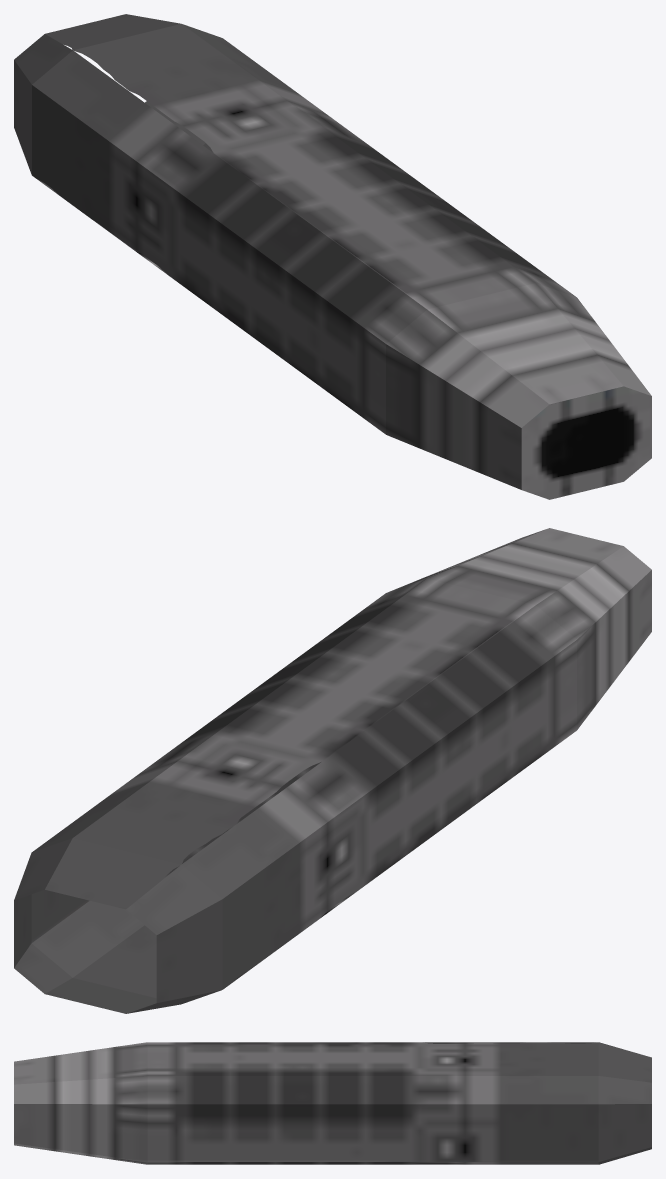
The model's file is Barrel.obj.
3 views of the same model, one above another, from view 1: azimuth 30°, elevation 25°; view 2: azimuth 150°, elevation 25°; view 3: azimuth 270°, elevation 25° (orthographic). The views are drawn at different scales.
Parts seen in each view (by area): view 1: Hgn_Turret; view 2: Hgn_Turret; view 3: Hgn_Turret.
Boxes of the visible parts, bbox=[...] form: Hgn_Turret: bbox=[14, 14, 651, 499]; Hgn_Turret: bbox=[14, 528, 651, 1013]; Hgn_Turret: bbox=[14, 1042, 651, 1164].
Bounding box in the file's own units: 5.7 × 3.99 × 25.93.
